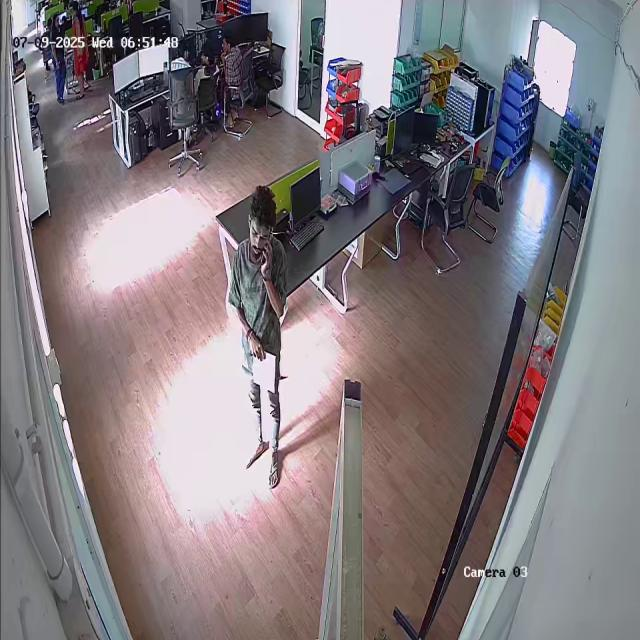person: (226, 187, 292, 492), (220, 37, 245, 126), (70, 1, 89, 100), (48, 14, 66, 104), (196, 51, 218, 94), (169, 47, 193, 76)
